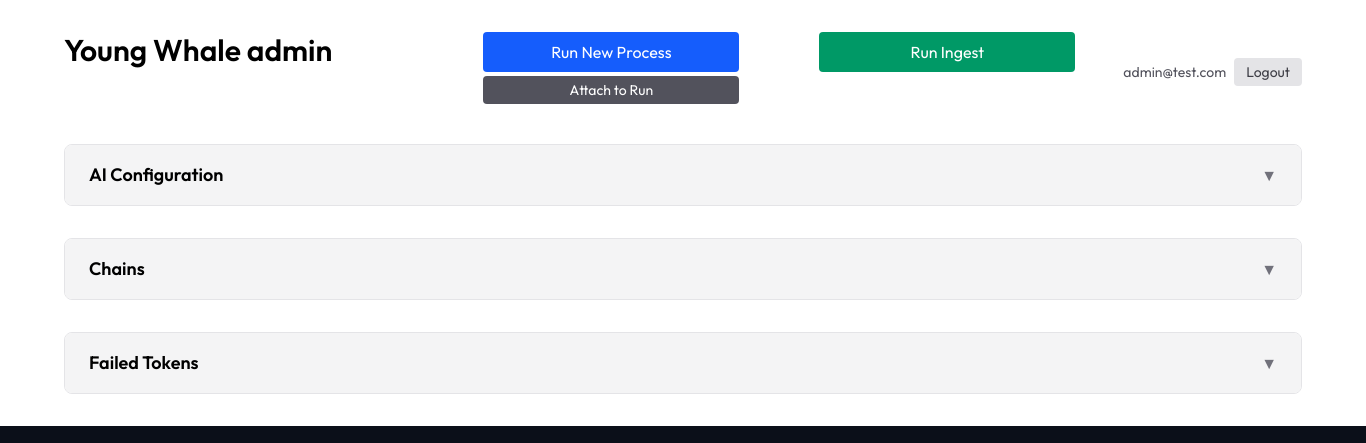
Scenario: Admin page › shows error when ingest API fails
The width and height of the screenshot is (1366, 443).
Step 1. Click the button "Run Ingest" → (947, 52), box [819, 32, 1075, 72]
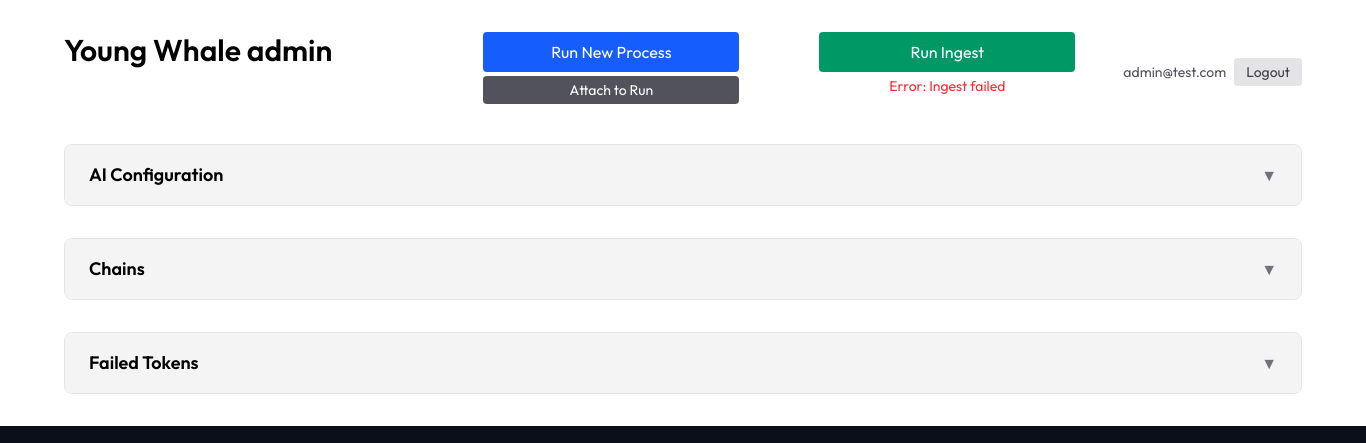
Now the text "Error: Ingest failed" is shown, box [889, 76, 1005, 96]
